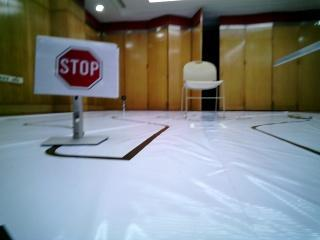stop: (36, 38, 113, 96)
